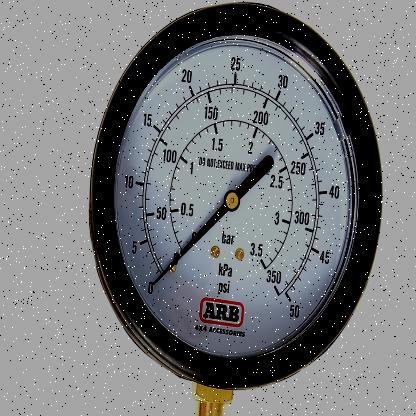needle: (152, 202, 229, 287)
